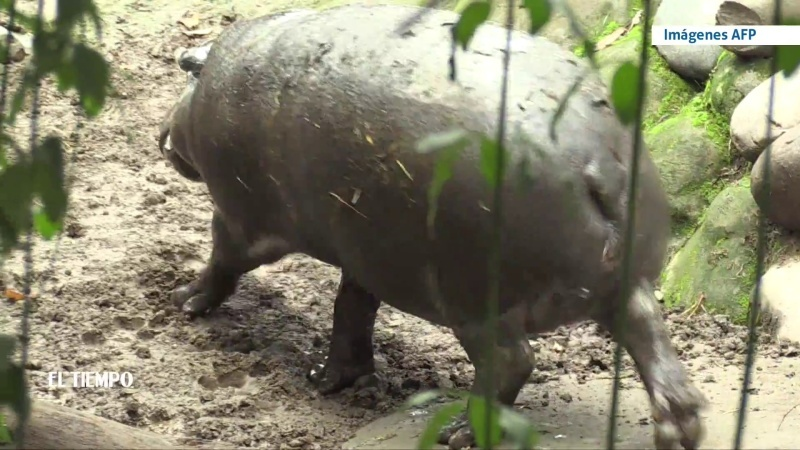hipopotamo: (142, 1, 716, 447)
